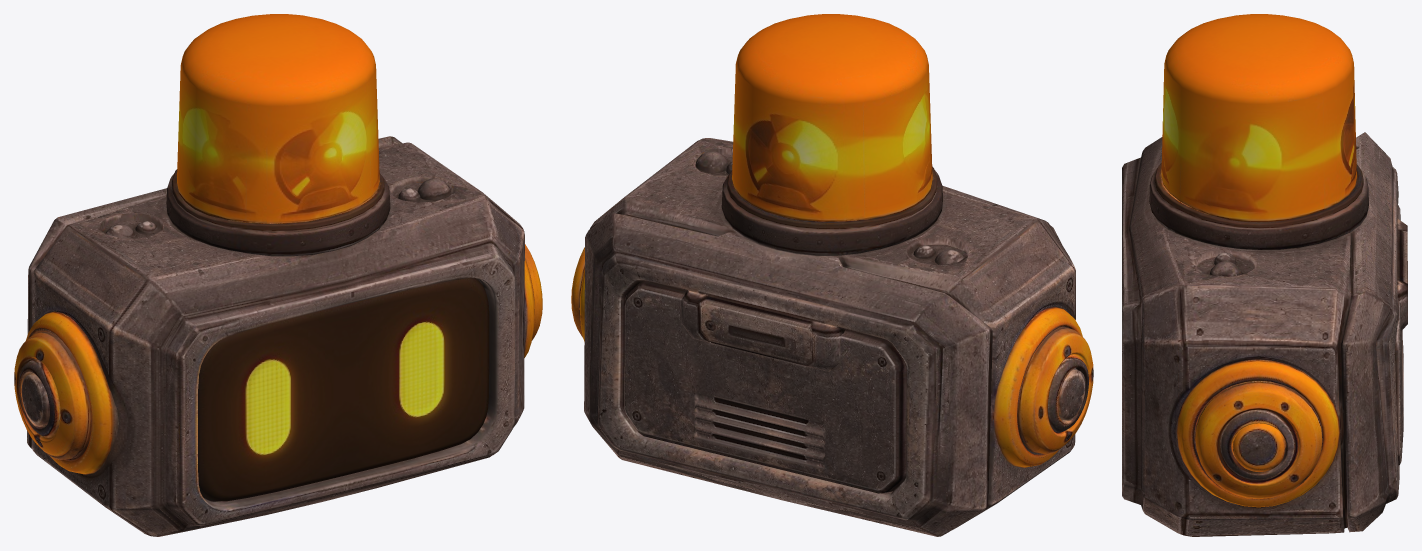
File: helper-head.glb
The picture shows the model from 3 angles, left to right: view 1: azimuth 30°, elevation 25°; view 2: azimuth 150°, elevation 25°; view 3: azimuth 270°, elevation 25°; orthographic projection. The views are drawn at different scales.
Visible parts, largest first — view 1: tripo_node_66ed2d70-42e9-49c4-8ef1-9a7c368097f9; view 2: tripo_node_66ed2d70-42e9-49c4-8ef1-9a7c368097f9; view 3: tripo_node_66ed2d70-42e9-49c4-8ef1-9a7c368097f9.
Part boxes in pixels (x1,y1,x2,y2): tripo_node_66ed2d70-42e9-49c4-8ef1-9a7c368097f9: [14, 14, 542, 536]; tripo_node_66ed2d70-42e9-49c4-8ef1-9a7c368097f9: [571, 14, 1093, 536]; tripo_node_66ed2d70-42e9-49c4-8ef1-9a7c368097f9: [1122, 14, 1407, 536].
Bounding box in the file's own units: 0.9995 × 0.856 × 0.5161.
Materials: 1 (1 with a texture image).
